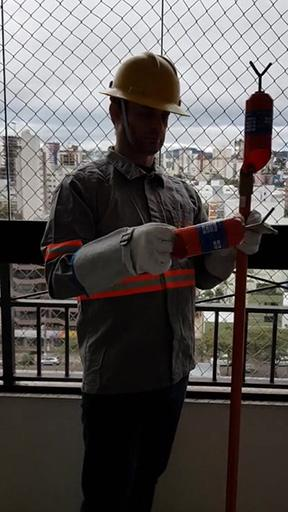Detector_Tensao_Contato: (172, 206, 279, 260), (242, 59, 274, 175)
Vara_Manobra: (224, 170, 255, 512)
